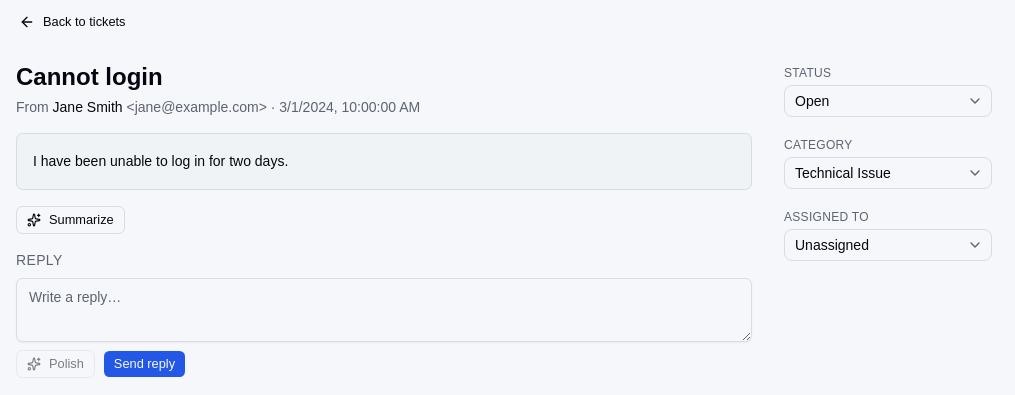
Test case: TicketDetailPage › shows an error when the status update fails
Check: the heading "Cannot login" is shown, box 16,63 -> 163,90
Click the dropdown named "Status": [888, 101] box 784,85 -> 992,117
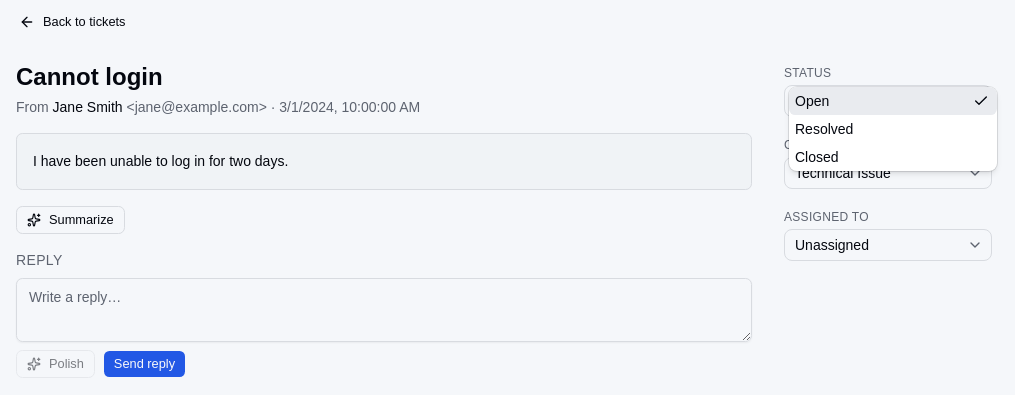
Click the option "Resolved": [824, 129] box 795,121 -> 853,137
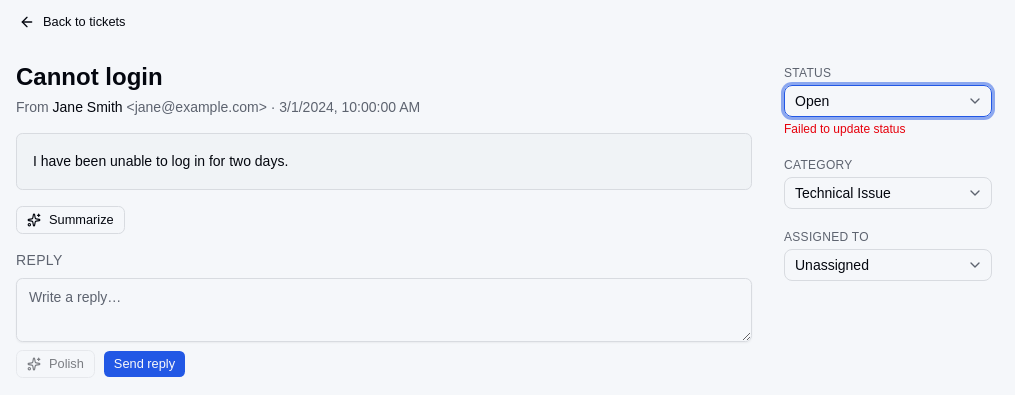
Check: the text "Failed to update status" is shown, box 784,122 -> 905,136
